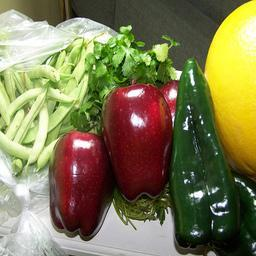apple: (107, 84, 180, 199), (49, 135, 114, 240)
